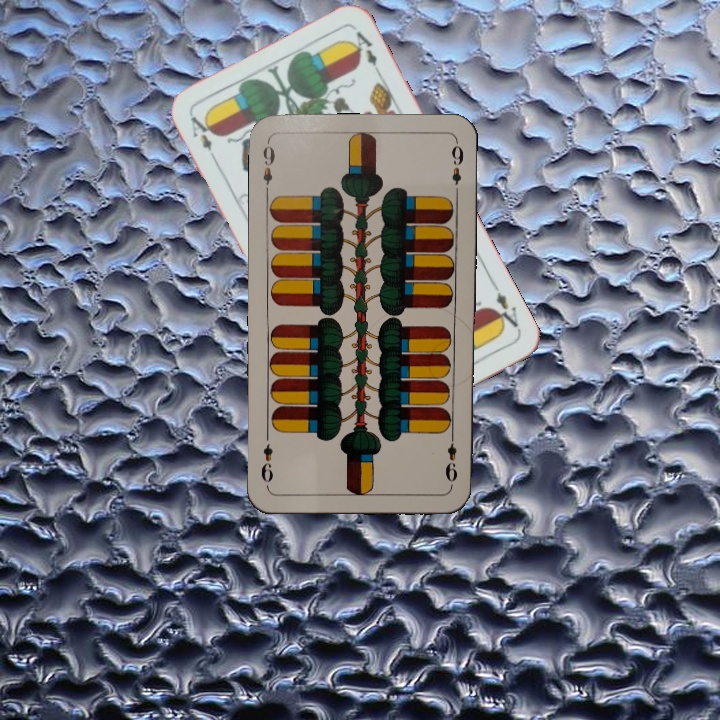E9: (258, 138, 278, 197), (441, 429, 460, 488)
EA: (487, 279, 521, 333), (186, 112, 220, 166)
